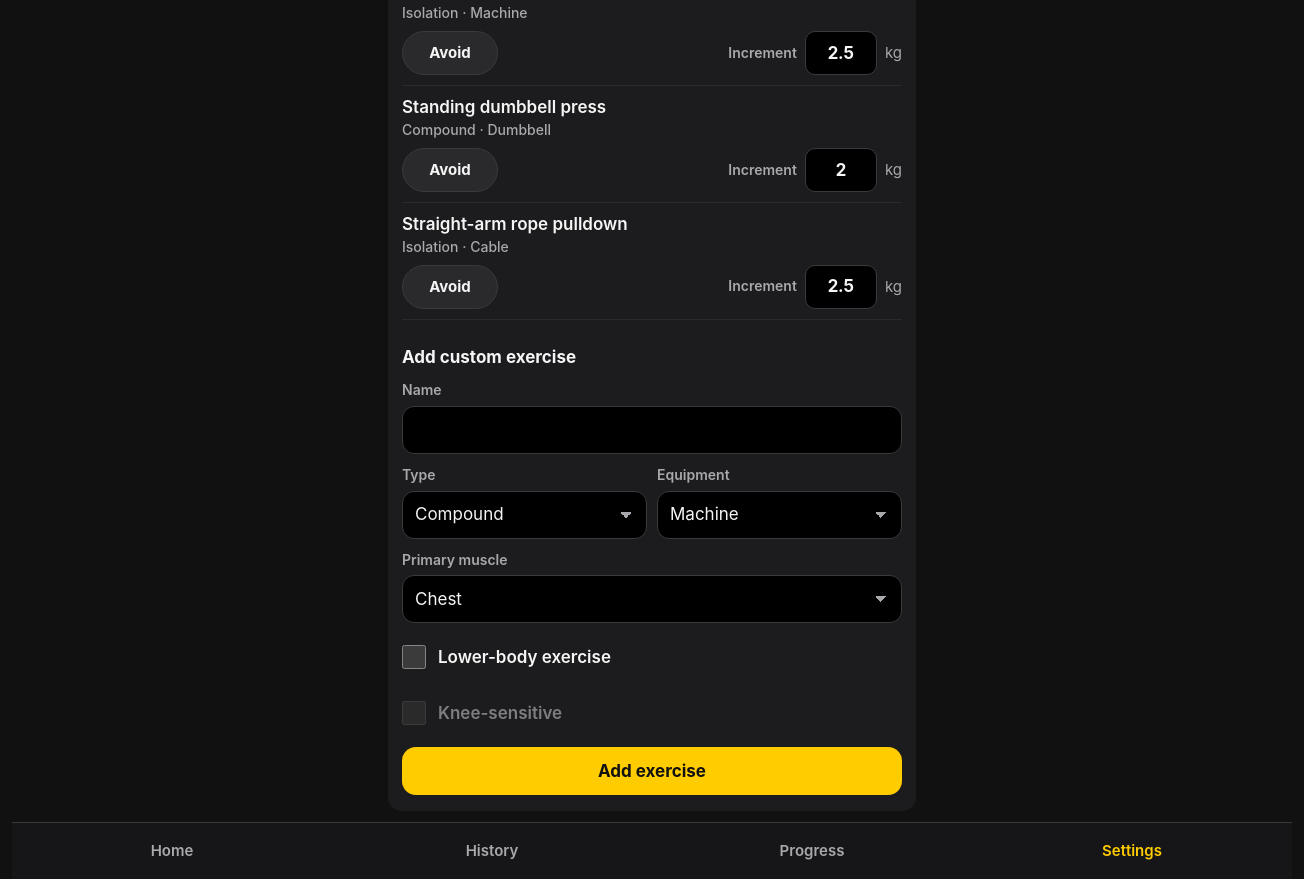
it: Settings › adds a custom exercise
(page scrolled)
Expected: the checkbox labelled "Knee-sensitive" is disabled, [402, 701, 426, 725]
Step 1. Type "Belt squat" into the field labelled "Name" → (652, 430), box [402, 406, 902, 454]
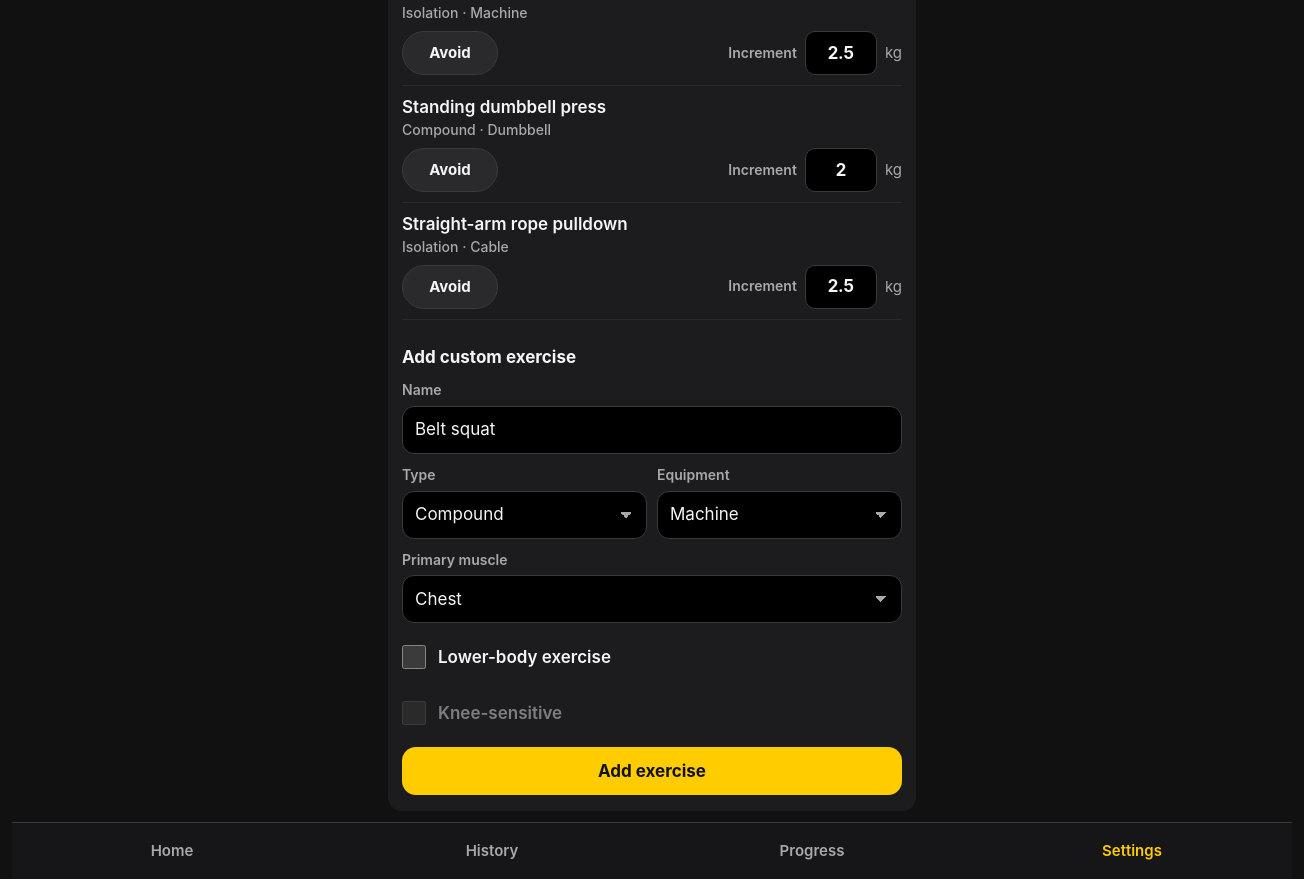
Step 2. Select "Quads" in the dropdown labelled "Primary muscle" → (652, 599), box [402, 575, 902, 623]
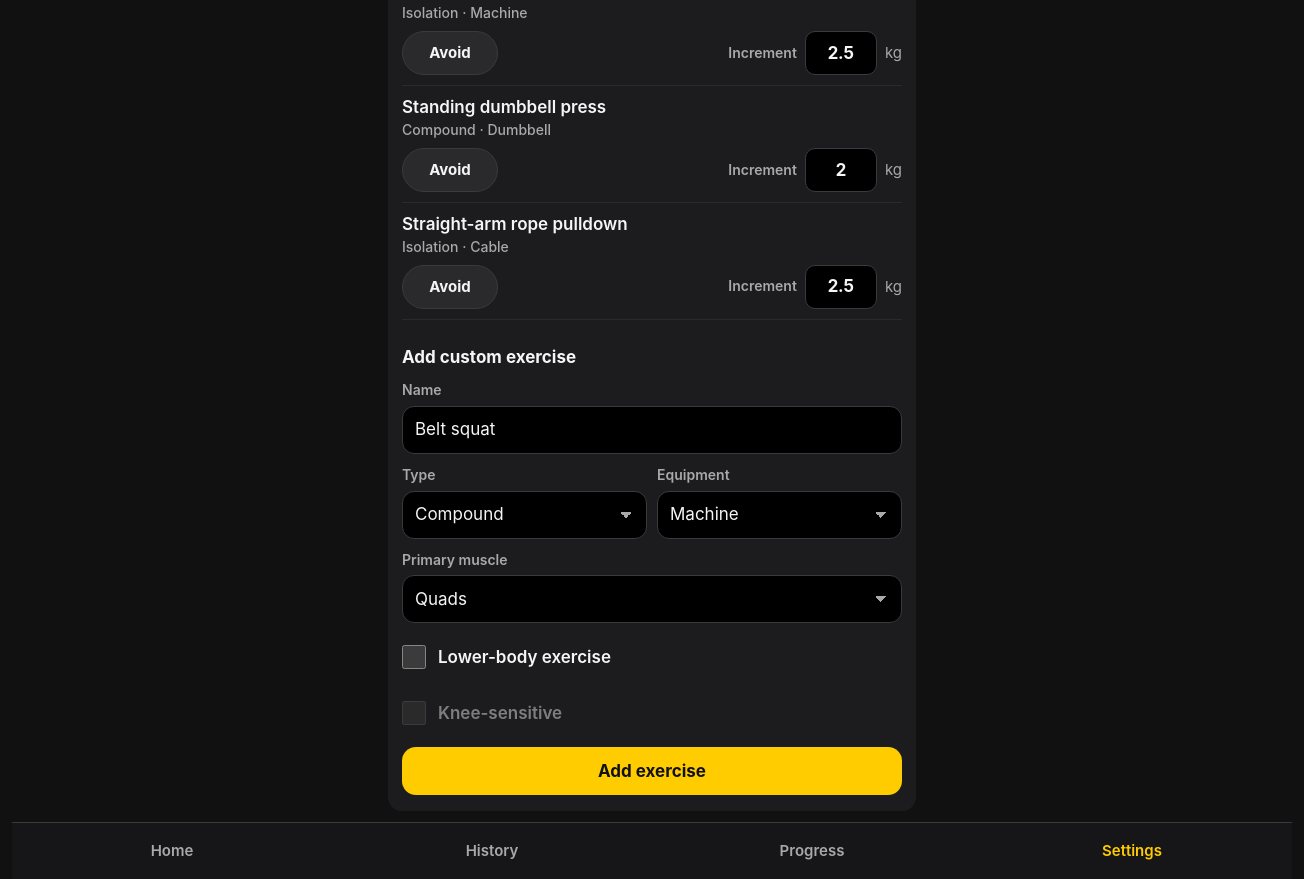
Step 3. Click the checkbox labelled "Lower-body exercise" → (414, 657), box [402, 645, 426, 669]
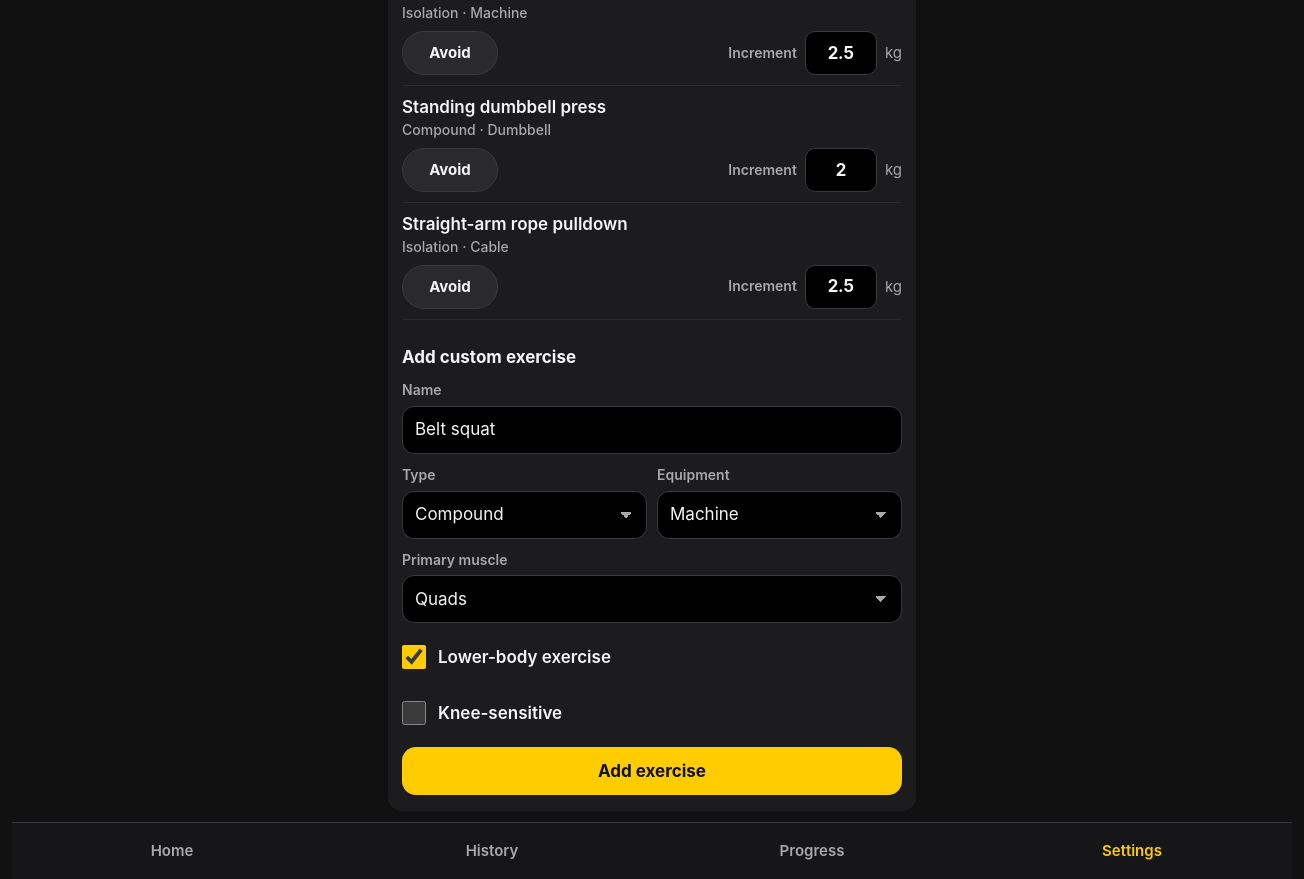
Step 4. Click the checkbox labelled "Knee-sensitive" → (414, 713), box [402, 701, 426, 725]
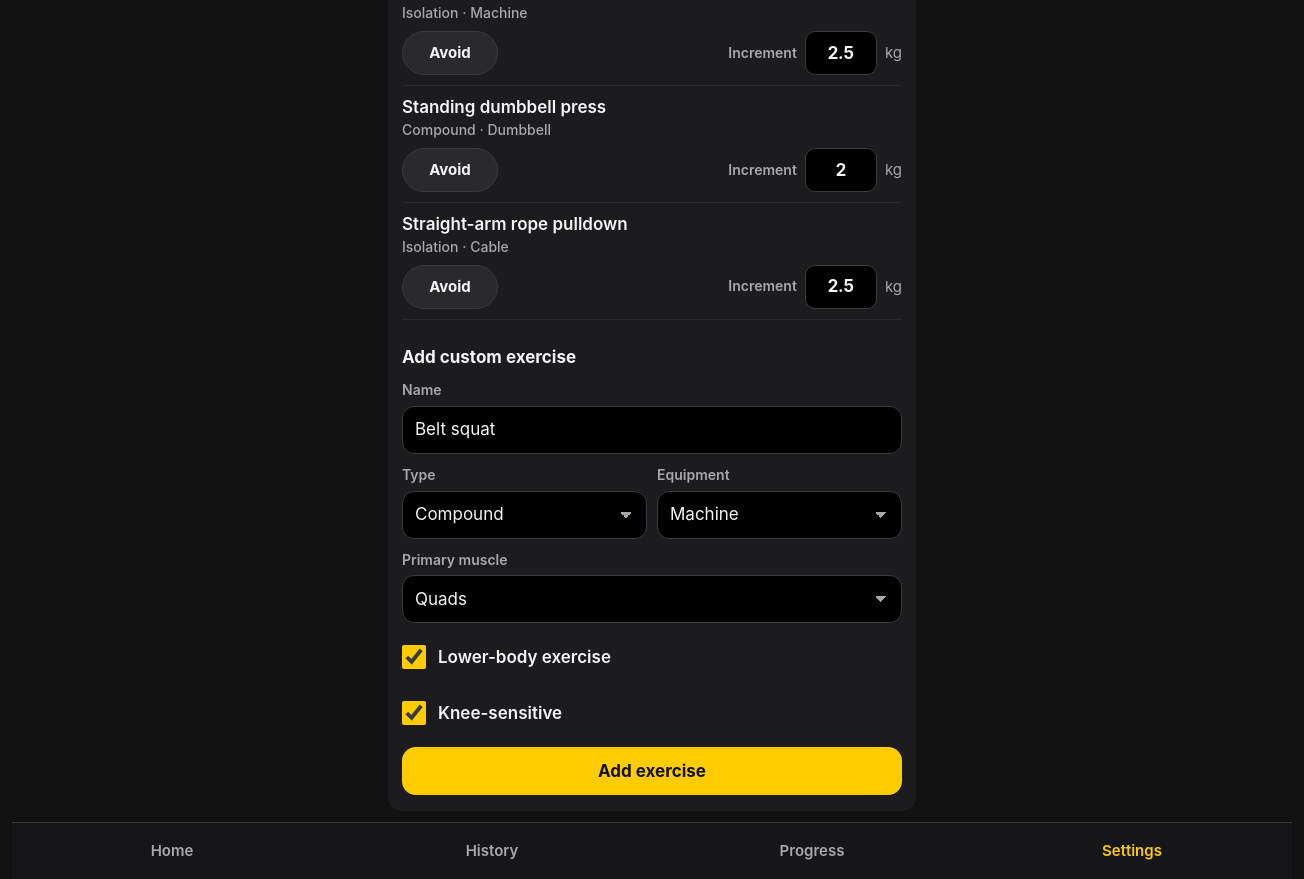
Step 5. Click the button "Add exercise" → (652, 771), box [402, 747, 902, 795]
(page scrolled)
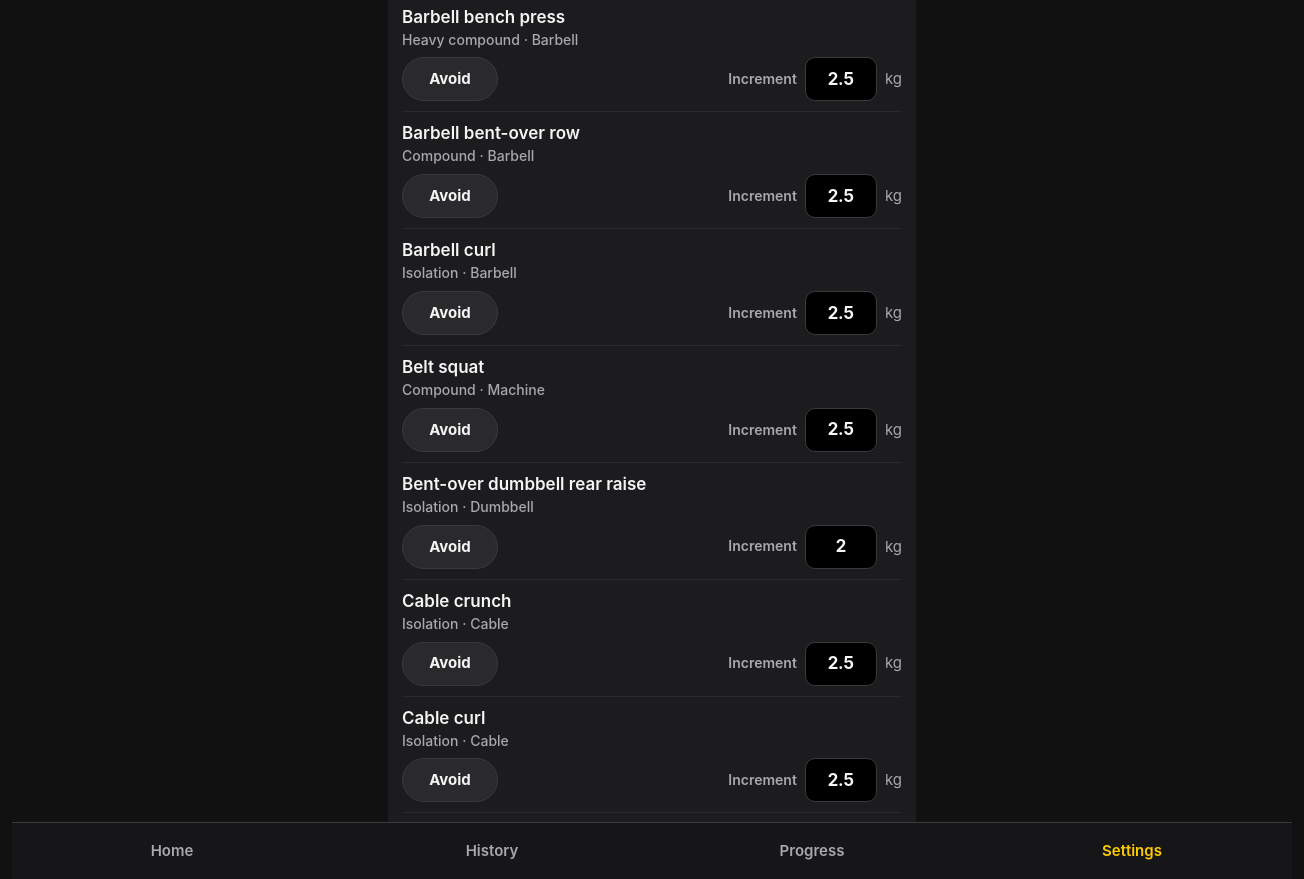
Expected: the switch named "Avoid Belt squat" is shown, [402, 408, 498, 452]
